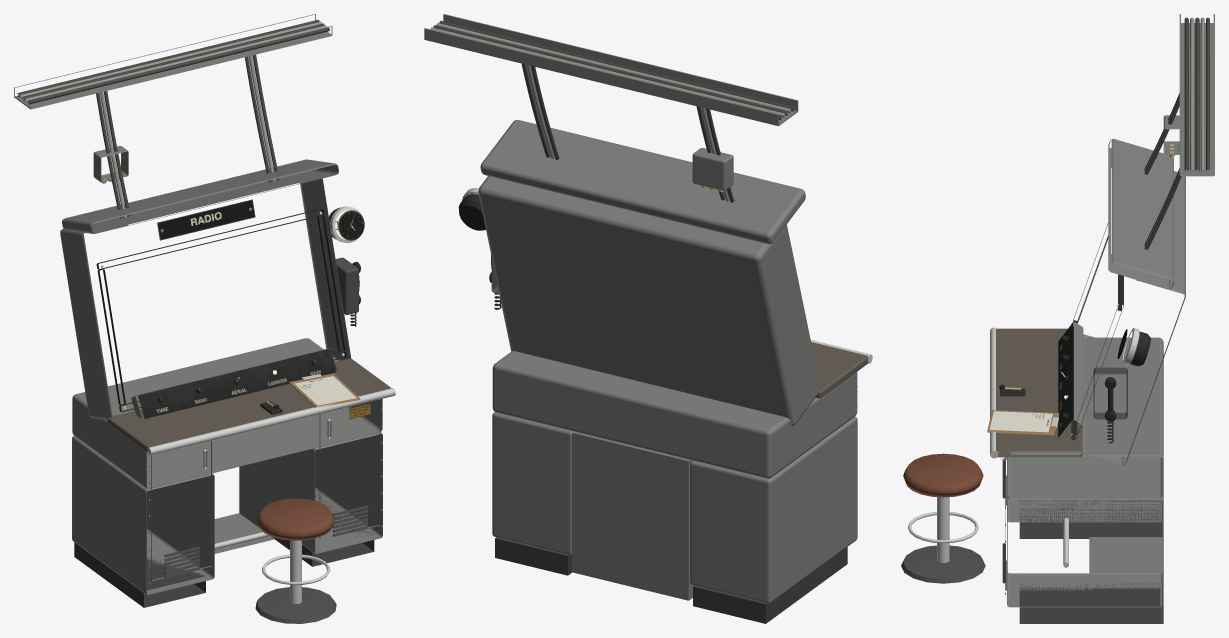
File: radio.glb
3 views of the same model, side by side, from view 1: azimuth 30°, elevation 25°; view 2: azimuth 150°, elevation 25°; view 3: azimuth 270°, elevation 25° (orthographic). The views are drawn at different scales.
Visible parts, largest first — view 1: body; view 2: body; view 3: body.
Boxes of the visible parts, box(x1,y1,x2,y2) form: body: box(14, 14, 395, 623); body: box(424, 14, 872, 623); body: box(901, 14, 1214, 623).
Size of the model in its own units: 1.74 by 2.48 by 1.48.
12 materials, 5 textured.
